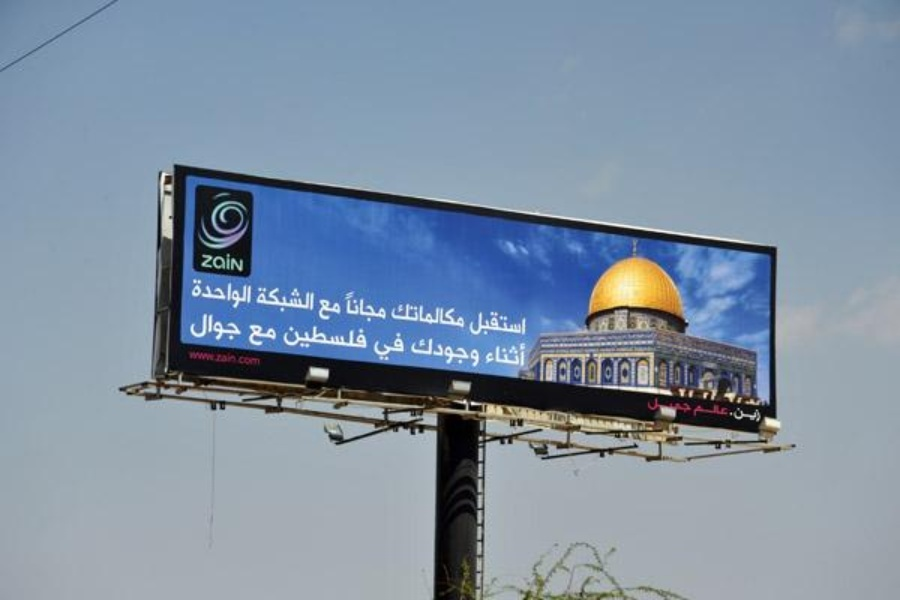text: (417, 335, 432, 370), (433, 335, 448, 370), (449, 335, 464, 370), (465, 335, 480, 370), (353, 290, 368, 323), (369, 290, 384, 323), (193, 278, 208, 310), (209, 278, 224, 310), (225, 278, 240, 310), (289, 323, 304, 355), (305, 323, 320, 355), (321, 323, 336, 355), (337, 323, 352, 355), (353, 323, 368, 355), (193, 310, 208, 342), (209, 310, 224, 342), (225, 310, 240, 342), (401, 299, 416, 329), (417, 299, 432, 329), (433, 299, 448, 329), (449, 299, 464, 329), (481, 310, 496, 339), (497, 310, 512, 339), (385, 332, 400, 361), (257, 286, 272, 314), (273, 286, 288, 314), (289, 286, 304, 314), (241, 278, 254, 310), (513, 310, 527, 339), (257, 322, 272, 349), (497, 342, 512, 368), (513, 342, 527, 368), (321, 298, 336, 322), (657, 394, 672, 416), (673, 394, 688, 416), (373, 332, 384, 361), (209, 253, 224, 274), (225, 253, 240, 274), (305, 286, 316, 314), (193, 349, 208, 368), (209, 349, 224, 368), (225, 349, 240, 368), (241, 349, 256, 368), (344, 290, 352, 323), (392, 299, 400, 329), (487, 342, 496, 368), (472, 310, 480, 339), (248, 322, 256, 349), (647, 394, 656, 416), (705, 404, 720, 417), (737, 410, 752, 422), (689, 394, 697, 416), (200, 253, 208, 274), (692, 404, 704, 417), (401, 332, 406, 361), (753, 410, 763, 422), (721, 404, 730, 417), (273, 322, 277, 349), (413, 335, 416, 370), (385, 290, 388, 323), (728, 410, 736, 422), (337, 298, 341, 322), (257, 349, 262, 368), (241, 253, 245, 274), (286, 323, 288, 355), (190, 349, 192, 368), (481, 335, 482, 370), (191, 310, 192, 342), (241, 310, 242, 342), (465, 299, 466, 329), (319, 298, 320, 322)
